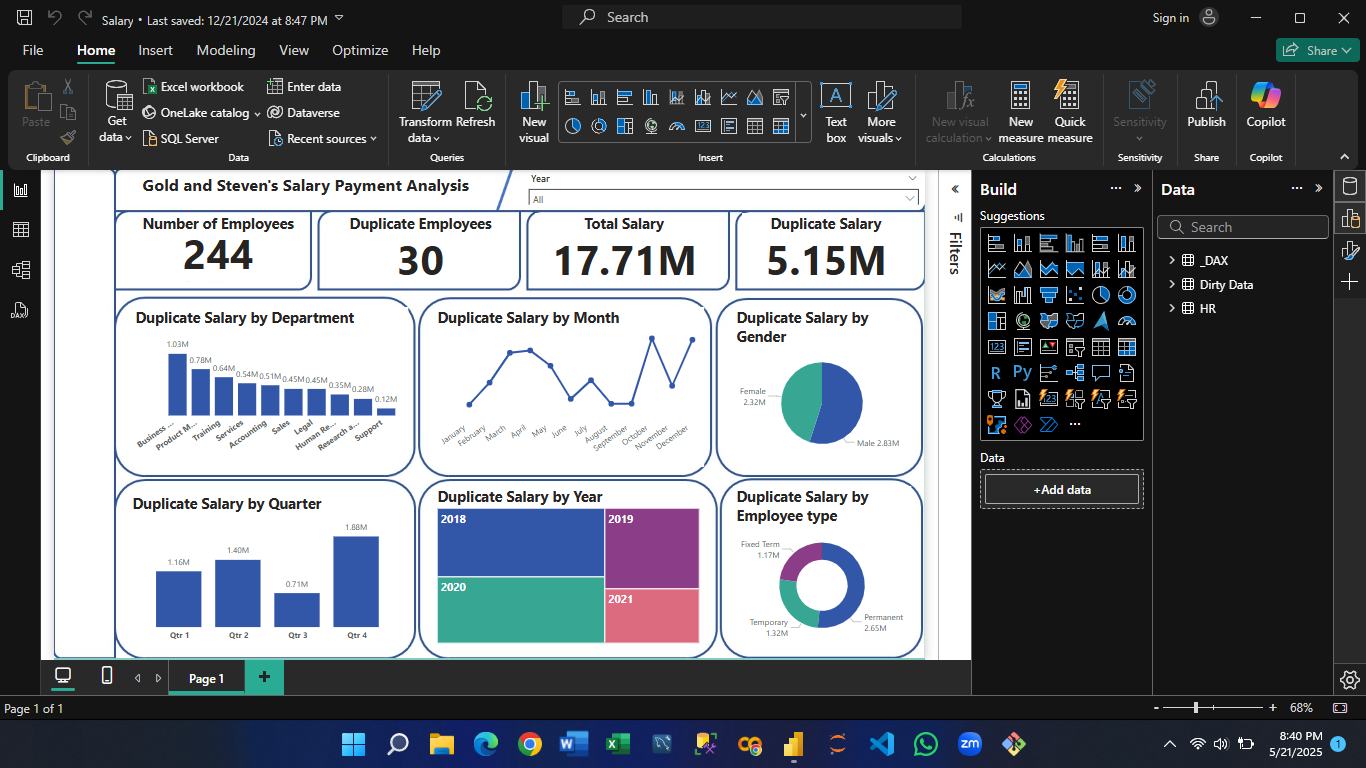

This screenshot's page, from the dashboard's own definition file:
{"tool":"powerbi","page":{"name":"Page 1","canvas":[1280,720],"ordinal":0},"visuals":[{"type":"columnChart","fields":{"Category":["HR.Department"],"Y":["_DAX.Duplicate Salary"]},"box":[114.5,200.9,406.4,226.6],"z":2},{"type":"pieChart","fields":{"Category":["HR.Gender"],"Y":["_DAX.Duplicate Salary"]},"box":[997.4,200.9,261.6,226.6],"z":3},{"type":"donutChart","fields":{"Category":["HR.Employee type"],"Y":["_DAX.Duplicate Salary"]},"box":[997.4,464.8,261.6,235.9],"z":4},{"type":"columnChart","fields":{"Category":["HR.Start Date.Variation.Date Hierarchy.Quarter"],"Y":["_DAX.Duplicate Salary"]},"box":[110,474.3,410,227.1],"z":5},{"type":"lineChart","fields":{"Category":["HR.Start Date.Variation.Date Hierarchy.Month"],"Y":["_DAX.Duplicate Salary"]},"box":[558.3,201.7,396.7,235],"z":6},{"type":"treemap","fields":{"Group":["HR.Start Date.Variation.Date Hierarchy.Year"],"Values":["_DAX.Duplicate Salary"]},"box":[558.2,464.8,394.7,235.9],"z":7},{"type":"card","title":"Number of Employees","fields":{"Values":["_DAX.Total Workers"]},"box":[110,63.3,261.7,105],"z":9},{"type":"card","title":"Duplicate Employees","fields":{"Values":["_DAX.Duplicate Workers"]},"box":[403.3,63.3,271.7,103.3],"z":10},{"type":"card","title":"Total Salary ","fields":{"Values":["_DAX.Total Salary"]},"box":[706.7,63.3,261.7,103.3],"z":11},{"type":"card","title":"Duplicate Salary","fields":{"Values":["_DAX.Duplicate Salary"]},"box":[1011.7,63.3,246.7,103.3],"z":12},{"type":"textbox","box":[100,0,540,50],"z":13},{"type":"slicer","fields":{"Values":["HR.Start Date.Variation.Date Hierarchy.Year"]},"box":[687.1,0,592.9,51.4],"z":15}]}

Visuals, with their boxes on the page's 1280x720 design canvas (x1, y1, x2, y2). These are canvas units, not pixel positions in the 1366x768 screenshot, which may show the page scaled, cropped or inside an application window:
columnChart - HR.Department x _DAX.Duplicate Salary: bbox=(114, 201, 521, 428)
pieChart - HR.Gender x _DAX.Duplicate Salary: bbox=(997, 201, 1259, 428)
donutChart - HR.Employee type x _DAX.Duplicate Salary: bbox=(997, 465, 1259, 701)
columnChart - HR.Start Date.Variation.Date Hierarchy.Quarter x _DAX.Duplicate Salary: bbox=(110, 474, 520, 701)
lineChart - HR.Start Date.Variation.Date Hierarchy.Month x _DAX.Duplicate Salary: bbox=(558, 202, 955, 437)
treemap - HR.Start Date.Variation.Date Hierarchy.Year x _DAX.Duplicate Salary: bbox=(558, 465, 953, 701)
"Number of Employees" card: bbox=(110, 63, 372, 168)
"Duplicate Employees" card: bbox=(403, 63, 675, 167)
"Total Salary " card: bbox=(707, 63, 968, 167)
"Duplicate Salary" card: bbox=(1012, 63, 1258, 167)
textbox: bbox=(100, 0, 640, 50)
slicer - HR.Start Date.Variation.Date Hierarchy.Year: bbox=(687, 0, 1280, 51)
